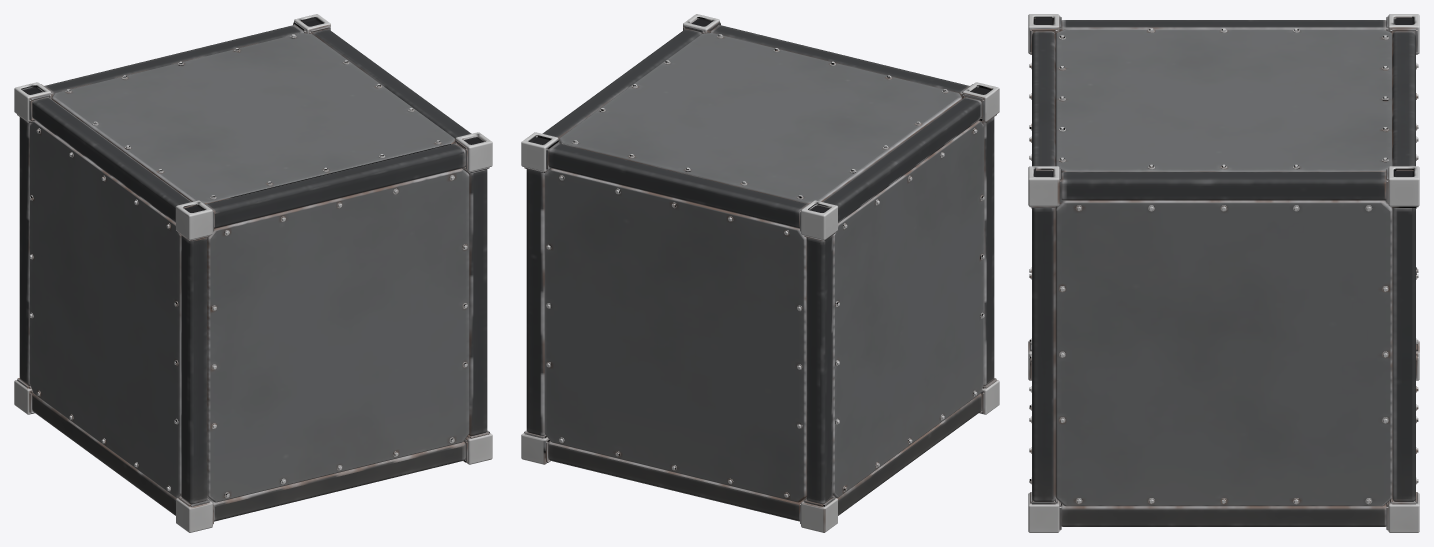
The model's file is SM_ShipHull.glb.
3 views of the same model, side by side, from view 1: azimuth 30°, elevation 25°; view 2: azimuth 150°, elevation 25°; view 3: azimuth 270°, elevation 25° (orthographic). The views are drawn at different scales.
Visible parts, largest first — view 1: SM_ShipHull; view 2: SM_ShipHull; view 3: SM_ShipHull.
Boxes of the visible parts, x1,y1,x2,y2 form: SM_ShipHull: (14,14,492,532); SM_ShipHull: (521,14,999,532); SM_ShipHull: (1028,14,1419,532).
Bounding box in the file's own units: 2 × 2 × 2.
Materials: 5 (5 with a texture image).
